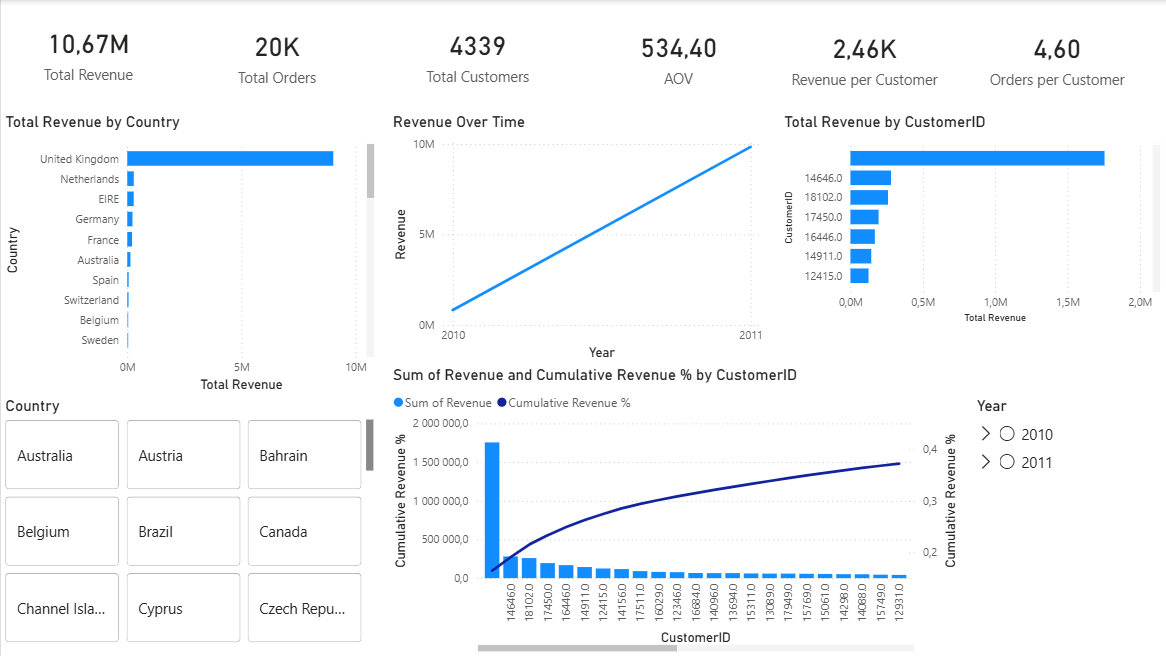

The page's visual inventory and layout, read from the dashboard file:
{"tool":"powerbi","page":{"name":"Page 1","canvas":[1280,720],"ordinal":0},"visuals":[{"type":"card","fields":{"Values":["transactions_clean.Total Orders"]},"box":[192.1,0,222.3,120.8],"z":0},{"type":"card","fields":{"Values":["transactions_clean.Total Customers"]},"box":[414.4,0,218.2,119.4],"z":1000},{"type":"card","fields":{"Values":["transactions_clean.AOV"]},"box":[632.6,2.7,222.3,118],"z":2000},{"type":"lineChart","title":"Revenue Over Time","fields":{"Category":["transactions_clean.InvoiceDate.Variation.Date Hierarchy.Year","transactions_clean.InvoiceDate.Variation.Date Hierarchy.Quarter","transactions_clean.InvoiceDate.Variation.Date Hierarchy.Month","transactions_clean.InvoiceDate.Variation.Date Hierarchy.Day"],"Y":["transactions_clean.Total Revenue"]},"box":[425.4,123.5,415.8,277.2],"z":3000},{"type":"card","fields":{"Values":["transactions_clean.Total Revenue"]},"box":[0,0,192.1,115.3],"z":4000},{"type":"clusteredBarChart","fields":{"Category":["transactions_clean.CustomerID"],"Y":["transactions_clean.Total Revenue"]},"box":[854.9,123.5,422.6,236],"z":5000},{"type":"clusteredBarChart","fields":{"Category":["transactions_clean.Country"],"Y":["transactions_clean.Total Revenue"]},"box":[0,123.5,414.4,311.5],"z":6000},{"type":"advancedSlicerVisual","fields":{"Values":["transactions_clean.Country"]},"box":[0,435,414.4,275.8],"z":7000},{"type":"card","fields":{"Values":["transactions_clean.Revenue per Customer"]},"box":[841.2,2.7,214.1,120.8],"z":8000},{"type":"card","fields":{"Values":["transactions_clean.Orders per Customer"]},"box":[1055.2,2.7,208.6,120.8],"z":9000},{"type":"listSlicer","fields":{"Values":["transactions_clean.InvoiceDate.Variation.Date Hierarchy.Year","transactions_clean.InvoiceDate.Variation.Date Hierarchy.Month"]},"box":[1066.2,435,197.6,285.4],"z":10000},{"type":"lineClusteredColumnComboChart","fields":{"Category":["transactions_clean.CustomerID"],"Y":["Sum(transactions_clean.Revenue)"],"Y2":["transactions_clean.Cumulative Revenue %"]},"box":[425.4,400.7,629.8,319.7],"z":11000}]}

Visuals, with their boxes in screenshot pixels (x1, y1, x2, y2), scaled from the page's 1280x720 canvas onto the 1166x656 screenshot:
card - transactions_clean.Total Orders: 175:0:377:110
card - transactions_clean.Total Customers: 377:0:576:109
card - transactions_clean.AOV: 576:2:779:110
"Revenue Over Time" lineChart: 388:113:766:365
card - transactions_clean.Total Revenue: 0:0:175:105
clusteredBarChart - transactions_clean.CustomerID x transactions_clean.Total Revenue: 779:113:1164:328
clusteredBarChart - transactions_clean.Country x transactions_clean.Total Revenue: 0:113:377:396
advancedSlicerVisual - transactions_clean.Country: 0:396:377:648
card - transactions_clean.Revenue per Customer: 766:2:961:113
card - transactions_clean.Orders per Customer: 961:2:1151:113
listSlicer - transactions_clean.InvoiceDate.Variation.Date Hierarchy.Year x transactions_clean.InvoiceDate.Variation.Date Hierarchy.Month: 971:396:1151:655
lineClusteredColumnComboChart - transactions_clean.CustomerID x Sum(transactions_clean.Revenue): 388:365:961:655
